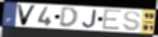4: (36, 6, 53, 27)
D: (58, 6, 79, 29)
E: (102, 8, 123, 31)
J: (81, 9, 98, 29)
S: (122, 10, 142, 32)
V: (15, 4, 38, 26)
